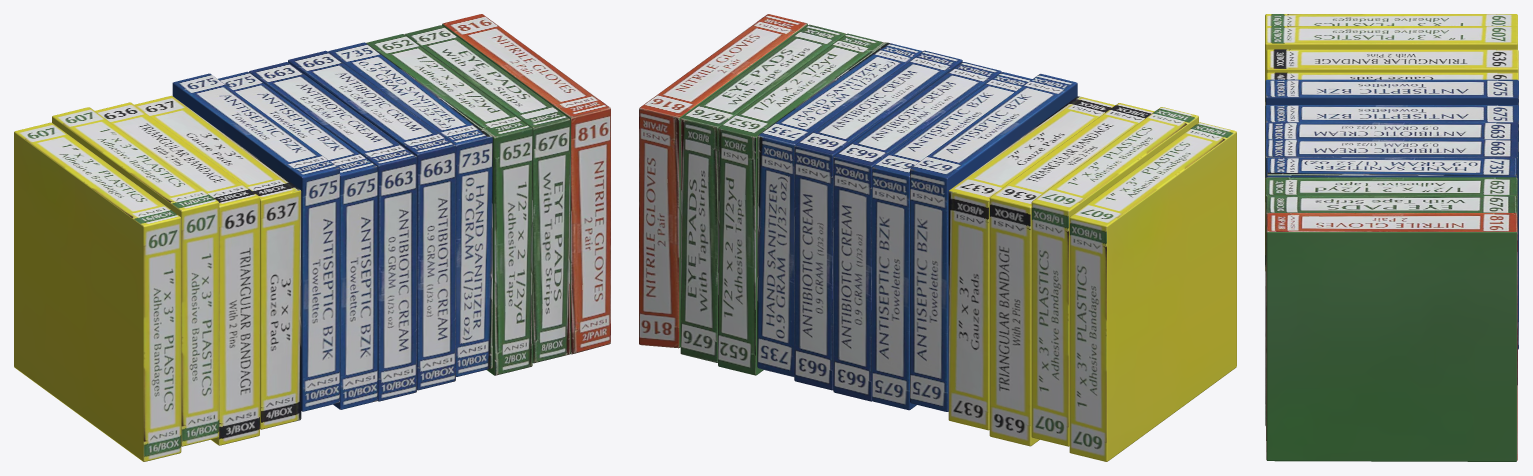
File: MedicineProduct03.fbx
3 renders of one model, left to right at view 1: azimuth 30°, elevation 25°; view 2: azimuth 150°, elevation 25°; view 3: azimuth 270°, elevation 25°, orthographic. The views are drawn at different scales.
Parts seen in each view (by area): view 1: MedicineProduct03; view 2: MedicineProduct03; view 3: MedicineProduct03.
Part boxes in pixels (box(x1,y1,x2,y2)): MedicineProduct03: box(14, 14, 610, 461); MedicineProduct03: box(639, 14, 1236, 461); MedicineProduct03: box(1265, 14, 1518, 461).
Bounding box in the file's own units: 13.07 × 6.64 × 6.31.
